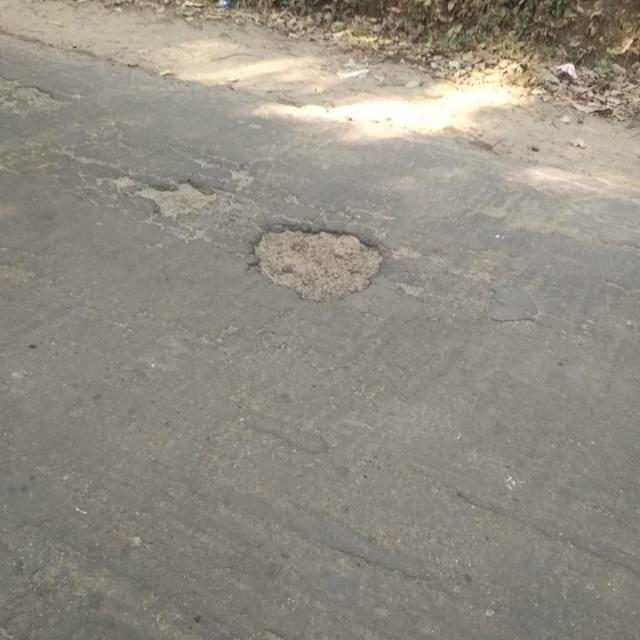Pothole: (251, 220, 390, 304), (134, 177, 221, 220)
